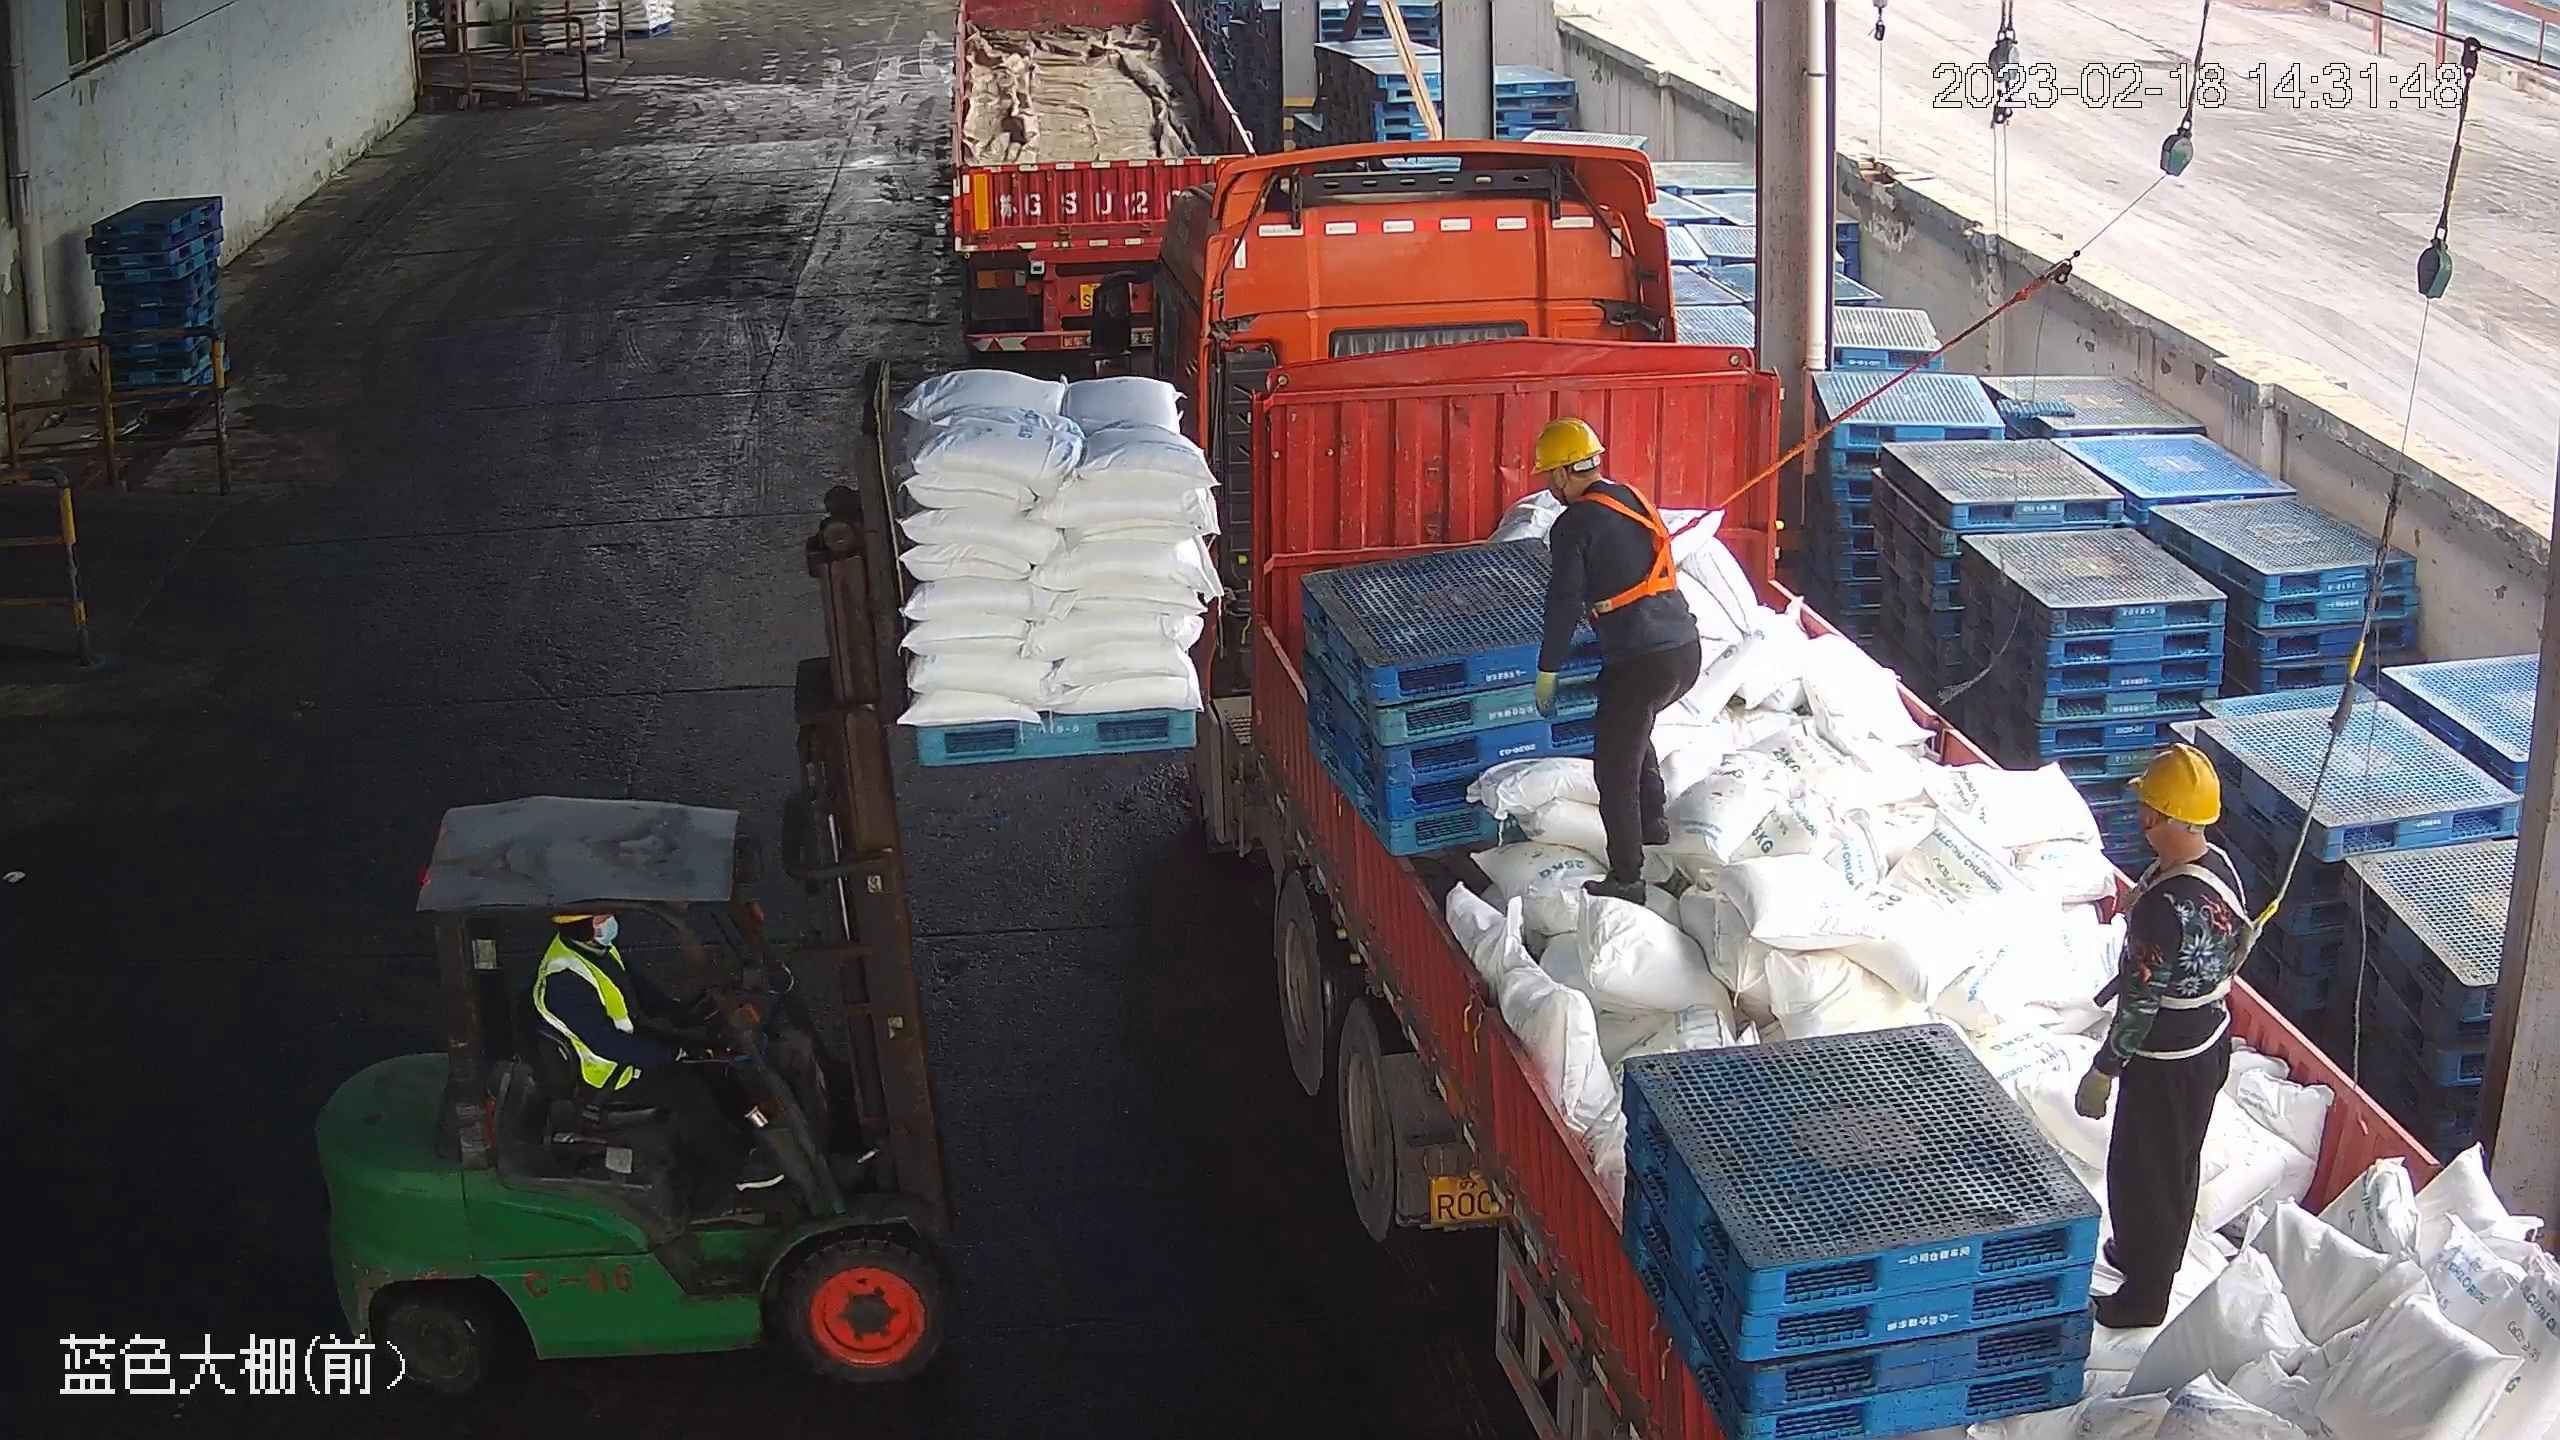belt: (2137, 855, 2267, 1017), (1580, 478, 1700, 615)
head: (2113, 740, 2247, 939), (1524, 415, 1671, 566)
helmet: (2127, 740, 2223, 824), (1528, 415, 1604, 477)
people: (2068, 745, 2258, 1341), (1527, 418, 1703, 901), (535, 908, 783, 1197)
truck: (1124, 138, 2551, 1436), (929, 2, 1271, 361)
